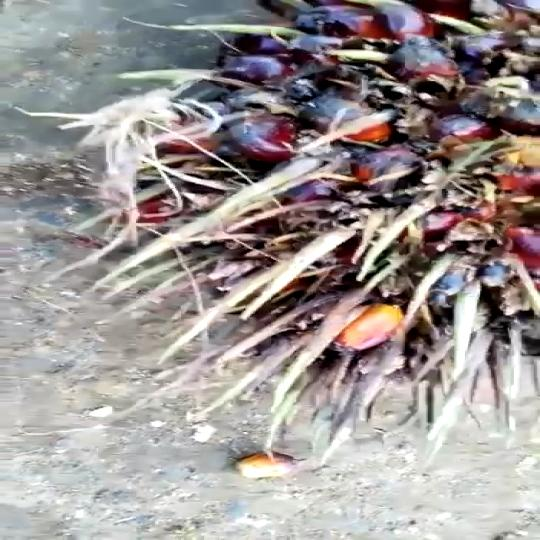masak: (105, 0, 540, 445)
